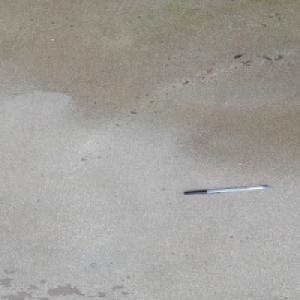Pen: (182, 184, 270, 195)
